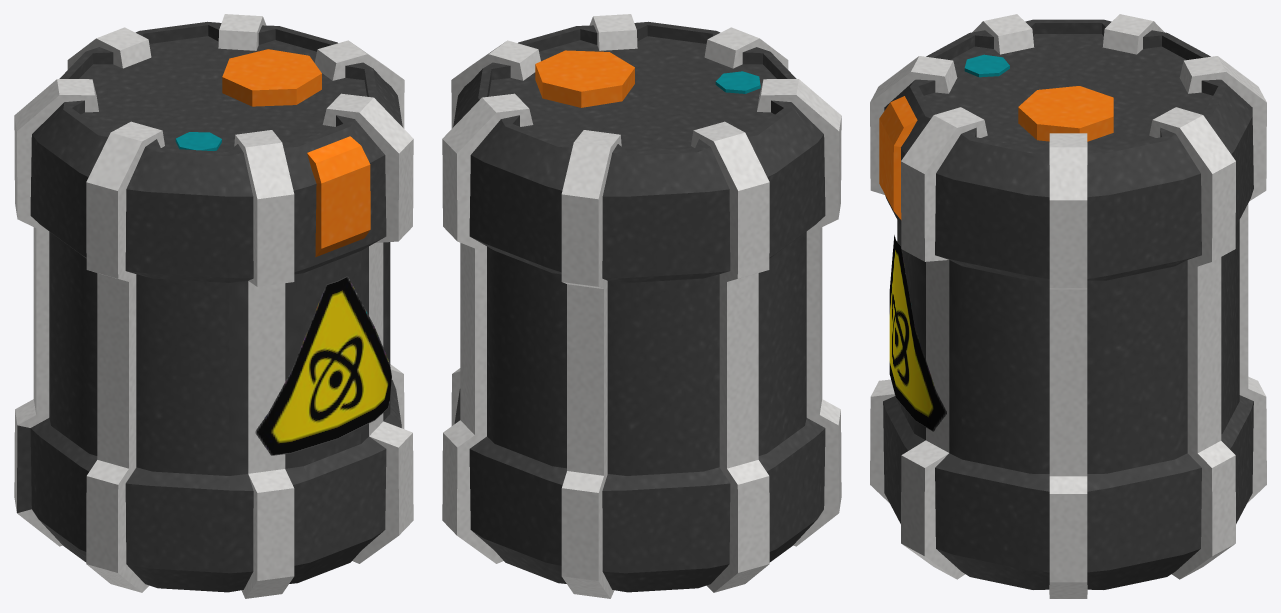
Rendered from Barrel_1_LOD0.fbx.
The picture shows the model from 3 angles, left to right: view 1: azimuth 30°, elevation 25°; view 2: azimuth 150°, elevation 25°; view 3: azimuth 270°, elevation 25°; orthographic projection.
Parts seen in each view (by area): view 1: Barrel_1_LOD0; view 2: Barrel_1_LOD0; view 3: Barrel_1_LOD0.
Part boxes in pixels (x1,y1,x2,y2): Barrel_1_LOD0: (14, 14, 413, 598); Barrel_1_LOD0: (442, 14, 841, 598); Barrel_1_LOD0: (870, 14, 1266, 598).
Bounding box in the file's own units: 82.18 × 103 × 82.18.
